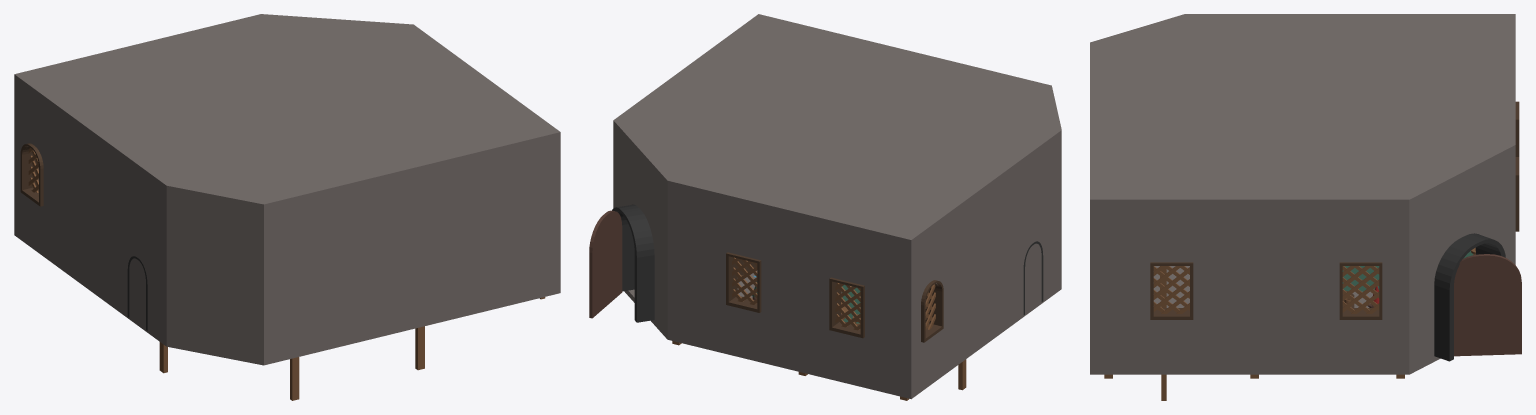
File: Tavern0.fbx
3 renders of one model, left to right at view 1: azimuth 30°, elevation 25°; view 2: azimuth 150°, elevation 25°; view 3: azimuth 270°, elevation 25°, orthographic. The views are drawn at different scales.
Parts seen in each view (by area): view 1: Tavern; view 2: Tavern; view 3: Tavern.
Boxes of the visible parts, x1=… form: Tavern: x1=14, y1=14, x2=560, y2=400; Tavern: x1=589, y1=14, x2=1061, y2=400; Tavern: x1=1090, y1=14, x2=1521, y2=400.
Size of the model in its own units: 786 by 497 by 760.
